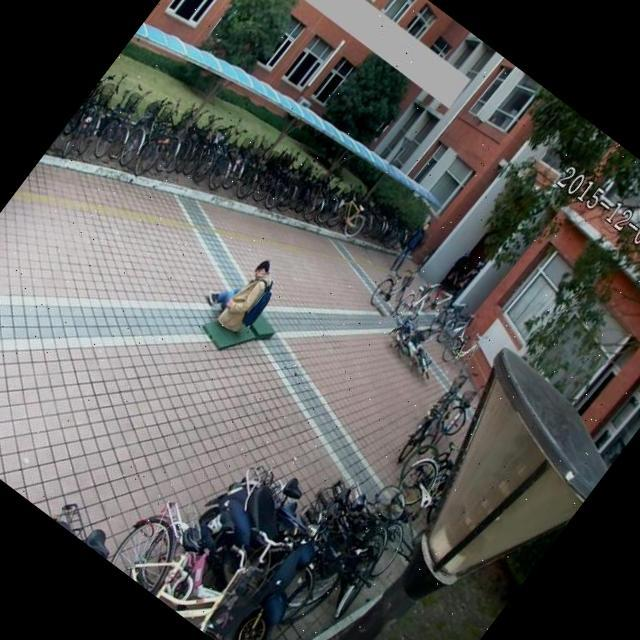person: (196, 238, 294, 344), (382, 212, 439, 279)
